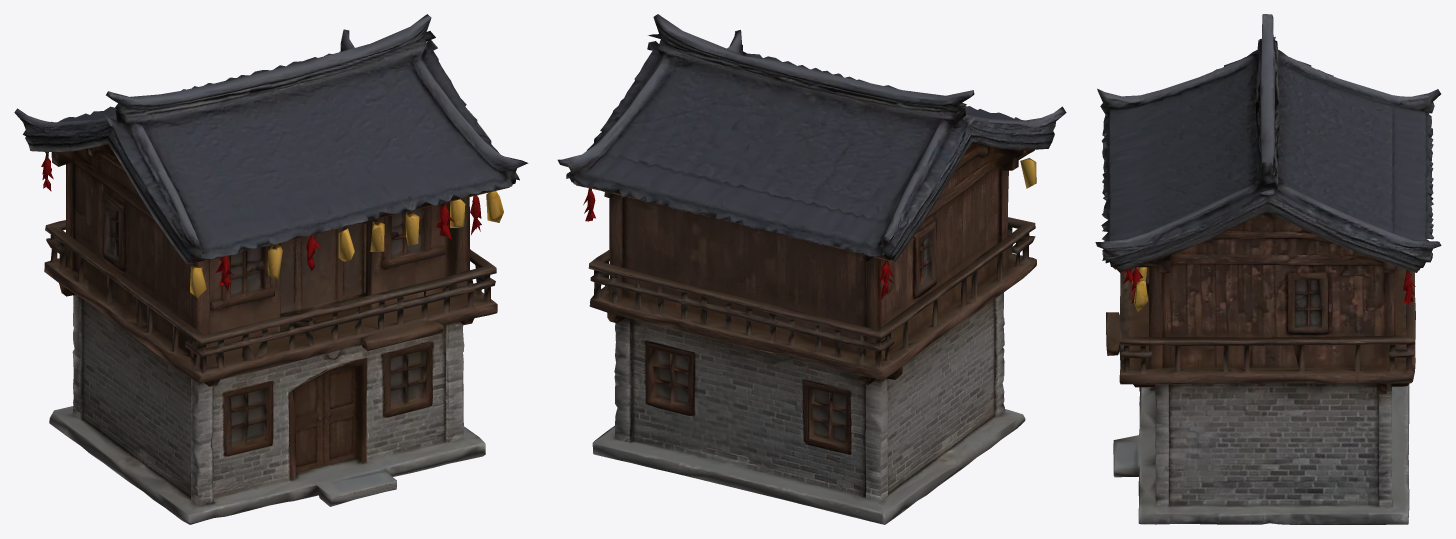
Rendered from house-b.glb.
The picture shows the model from 3 angles, left to right: view 1: azimuth 30°, elevation 25°; view 2: azimuth 150°, elevation 25°; view 3: azimuth 270°, elevation 25°; orthographic projection. The views are drawn at different scales.
Parts seen in each view (by area): view 1: tripo_node_68cdb7ec-34e3-41c8-91e2-32ad8bc8ef9b; view 2: tripo_node_68cdb7ec-34e3-41c8-91e2-32ad8bc8ef9b; view 3: tripo_node_68cdb7ec-34e3-41c8-91e2-32ad8bc8ef9b.
Boxes of the visible parts, x1,y1,x2,y2 form: tripo_node_68cdb7ec-34e3-41c8-91e2-32ad8bc8ef9b: [14, 14, 528, 524]; tripo_node_68cdb7ec-34e3-41c8-91e2-32ad8bc8ef9b: [557, 14, 1066, 524]; tripo_node_68cdb7ec-34e3-41c8-91e2-32ad8bc8ef9b: [1095, 14, 1441, 524].
Size of the model in its own units: 0.9061 by 1 by 0.8511.
Materials: 1 (1 with a texture image).
